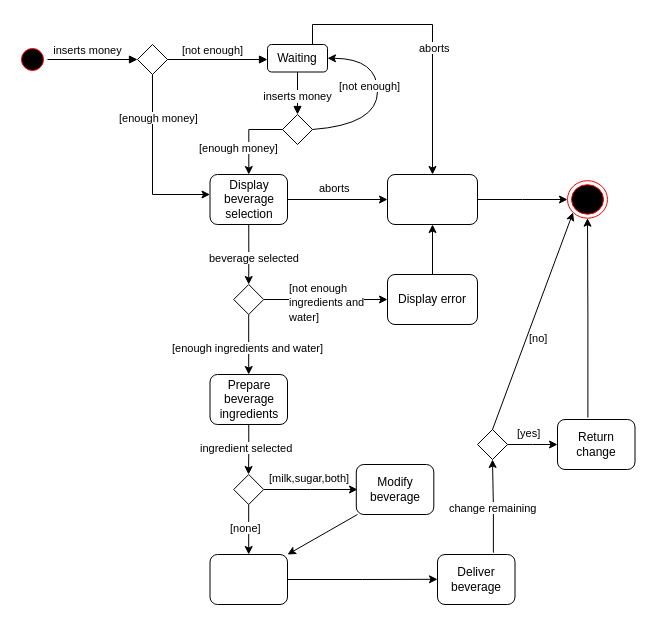
This 653x622 diagram has some shape labels left out. Each missing label, with the centre of its shape:
"Beverage mixing" belongs at [248,579].
"Return money" belongs at [432,199].
